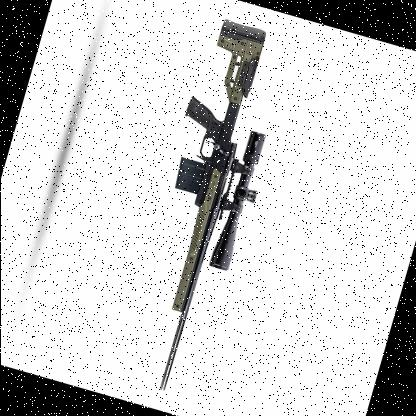rifle: (104, 10, 298, 408)
